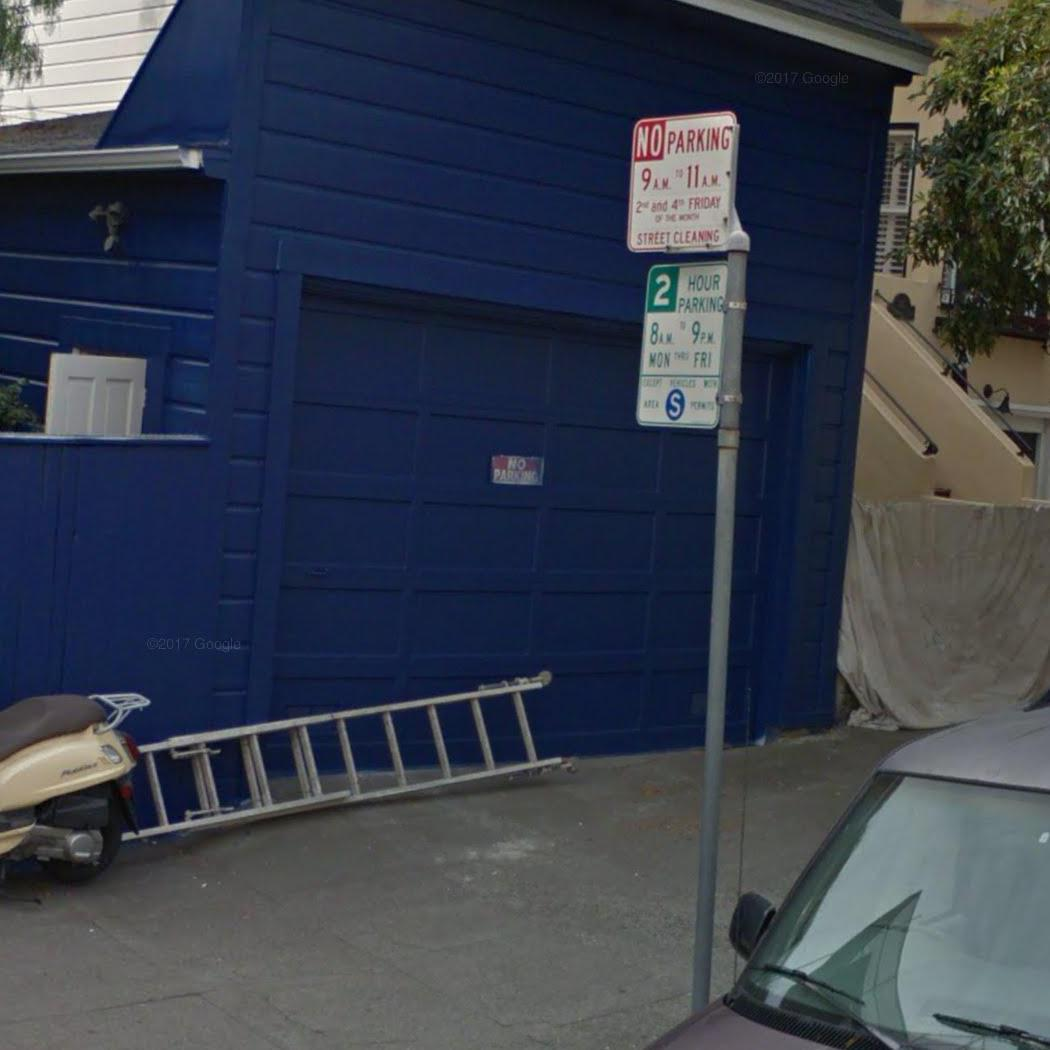2 Hour Parking: (634, 261, 740, 431)
No Parking: (623, 109, 742, 254)
